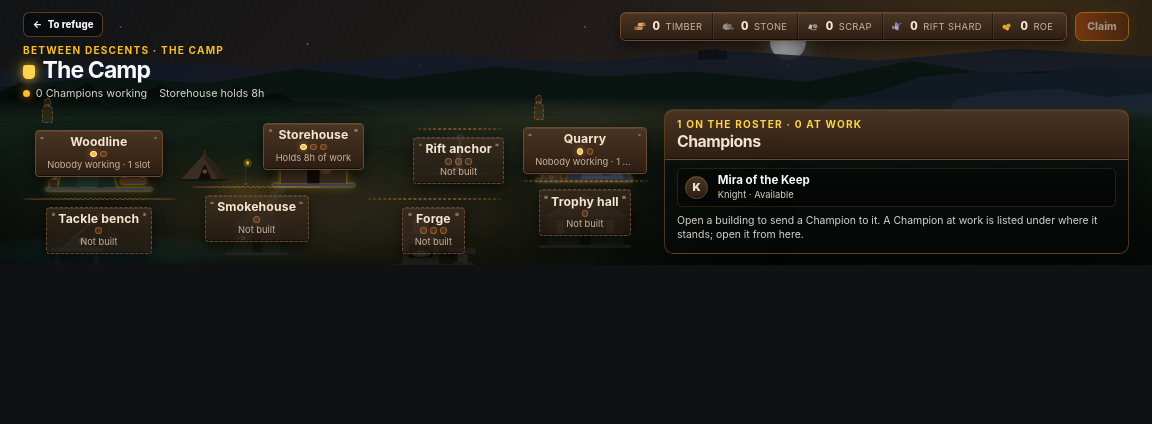
Test: CampScreen › offers the Trophy hall for timber and stone before it is built
What coordinates should you click on to do the following:
click the button "Trophy hall Not built"
I would click on:
 (585, 206)
Its box is x1=516 y1=175 x2=654 y2=236.
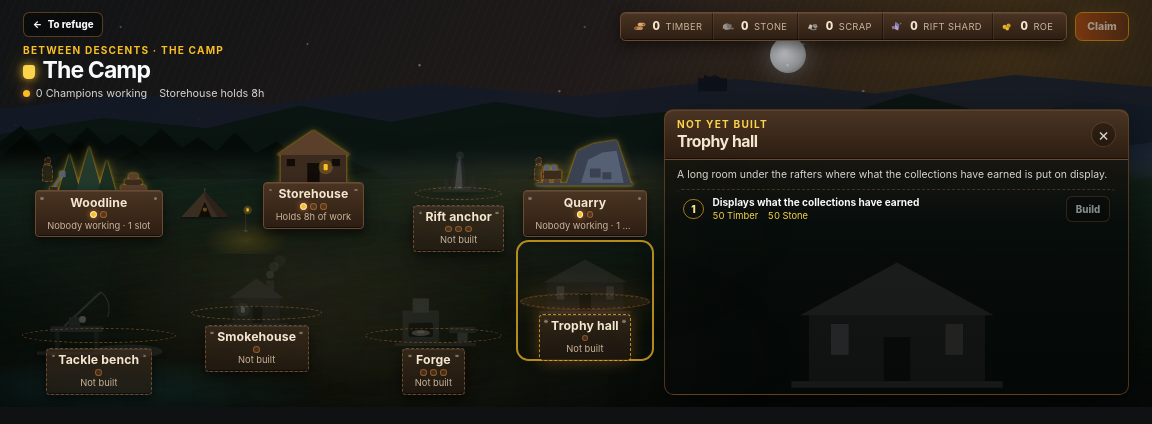
Now the heading "Trophy hall" is shown, box x1=677 y1=132 x2=758 y2=151
Now the text "Not yet built" is shown, box x1=677 y1=118 x2=768 y2=130
